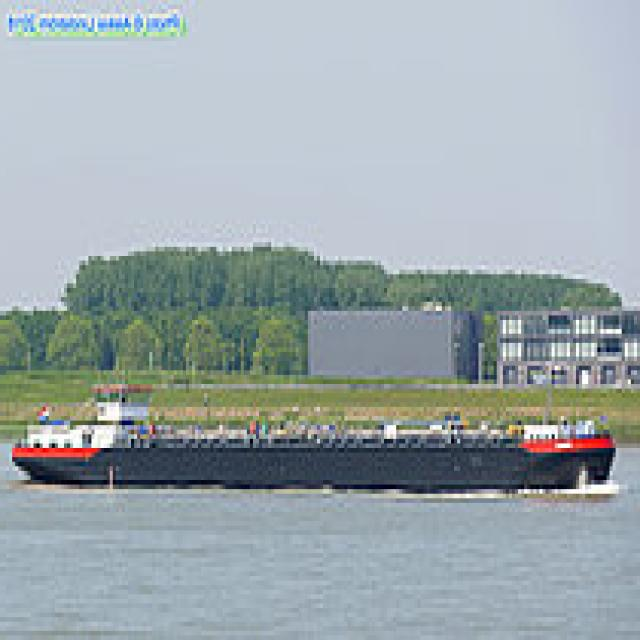Tanker: (12, 370, 622, 489)
